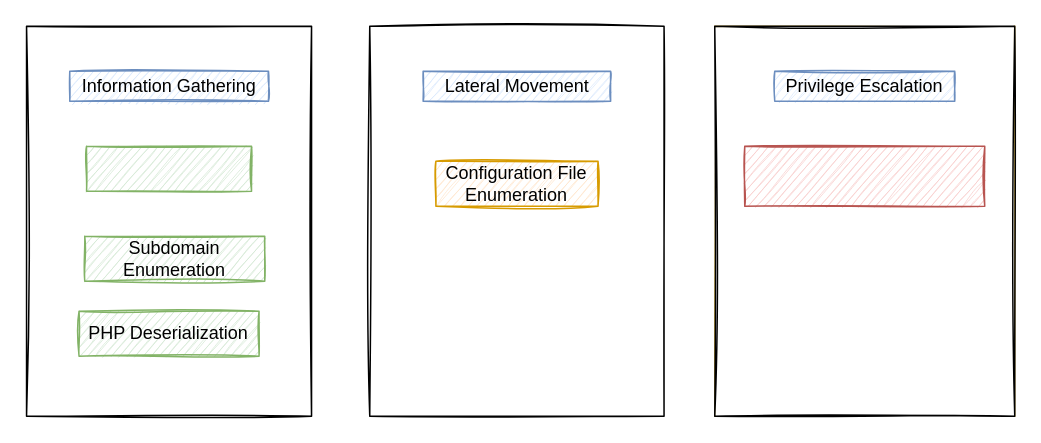
The diagram is 1041 pixels wide and 443 high, and some of its shapes have lost their labels. Here are the shapes that lost their labels. From the top down, the centre of each, then its label:
At (x=168, y=168): "Web Enumeration".
At (x=864, y=175): "Script File Exploitation".
